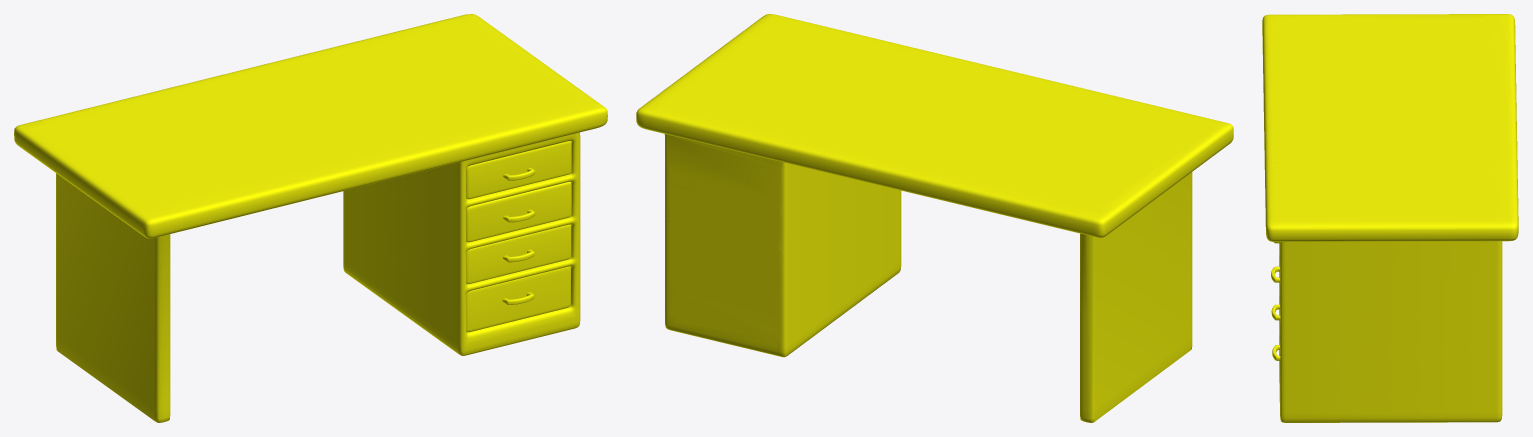
The model's file is desk-opt.glb.
The picture shows the model from 3 angles, left to right: view 1: azimuth 30°, elevation 25°; view 2: azimuth 150°, elevation 25°; view 3: azimuth 270°, elevation 25°; orthographic projection. The views are drawn at different scales.
Visible parts, largest first — view 1: Desk_Body; view 2: Desk_Body; view 3: Desk_Body.
Boxes of the visible parts, left/top/right/bottom form: Desk_Body: left=14, top=14, right=607, bottom=422; Desk_Body: left=636, top=14, right=1233, bottom=422; Desk_Body: left=1262, top=14, right=1518, bottom=422.
Bounding box in the file's own units: 1.18 × 0.5359 × 0.5987.
